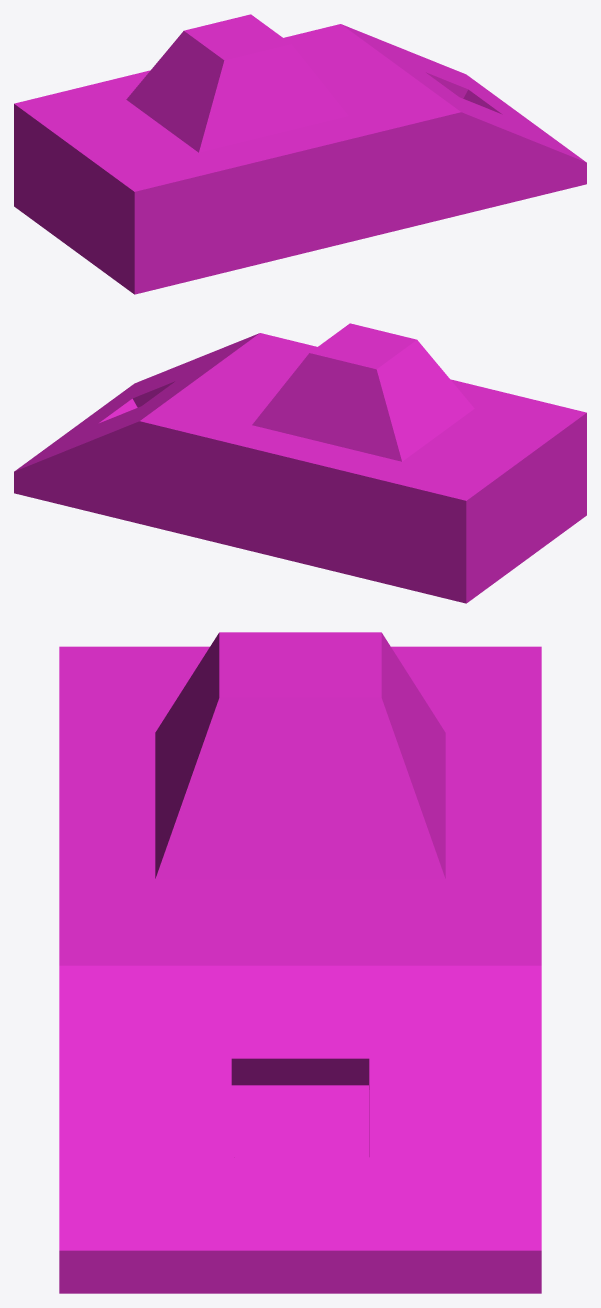
File: turela.fbx
The picture shows the model from 3 angles, top to bottom: view 1: azimuth 30°, elevation 25°; view 2: azimuth 150°, elevation 25°; view 3: azimuth 270°, elevation 25°; orthographic projection. The views are drawn at different scales.
Parts seen in each view (by area): view 1: Cube.004; view 2: Cube.004; view 3: Cube.004.
Boxes of the visible parts, x1,y1,x2,y2 form: Cube.004: (14,14,586,294); Cube.004: (14,323,586,603); Cube.004: (59,632,541,1293).
Bounding box in the file's own units: 261 × 95.68 × 121.
